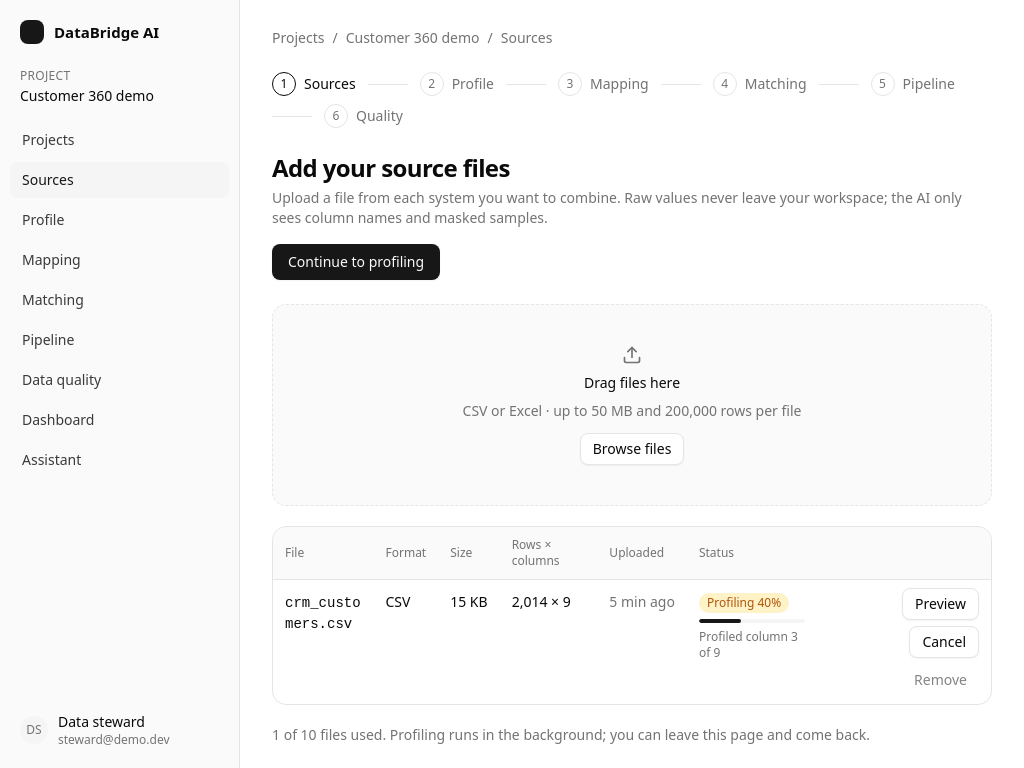
Test: sources page › shows a running job and cancels it
Check: the text "Profiling 40%" is shown, box [699,593,789,613]
Check: the button with aria-label "Remove crm_customers.csv" is disabled, box [902,664,979,696]
Step 1. Click the button with aria-label "Cancel profiling of crm_customers.csv" → (944, 642), box [909,626,979,658]
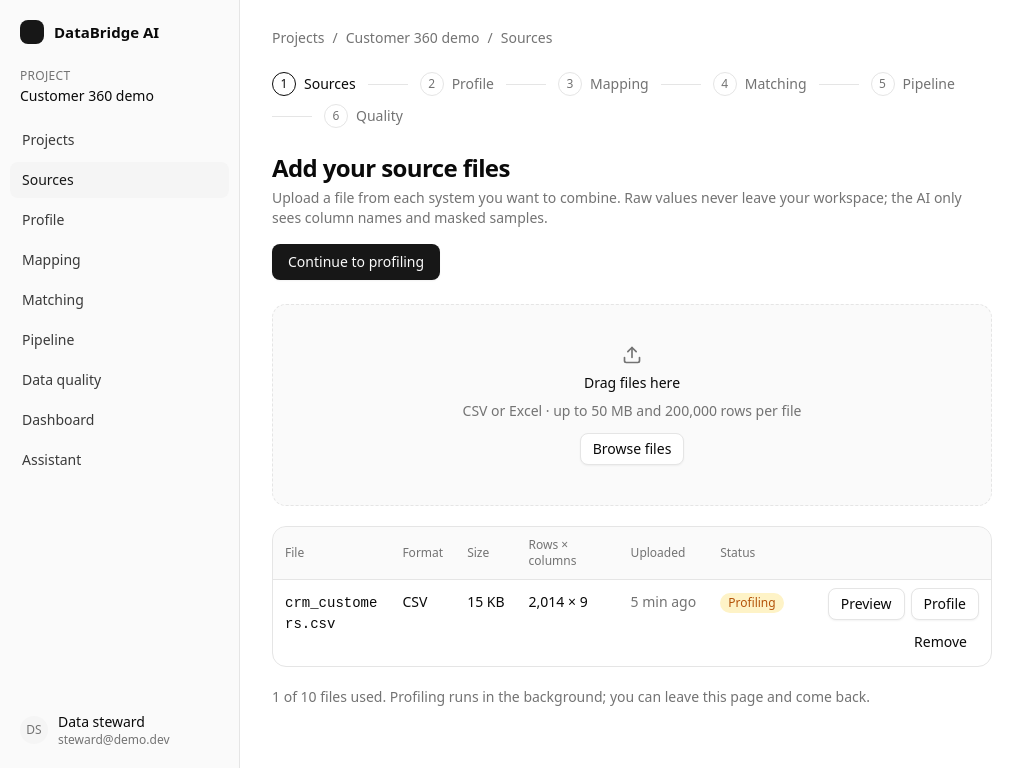
Check: the button with aria-label "Profile crm_customers.csv" is shown, box [911,588,979,620]
